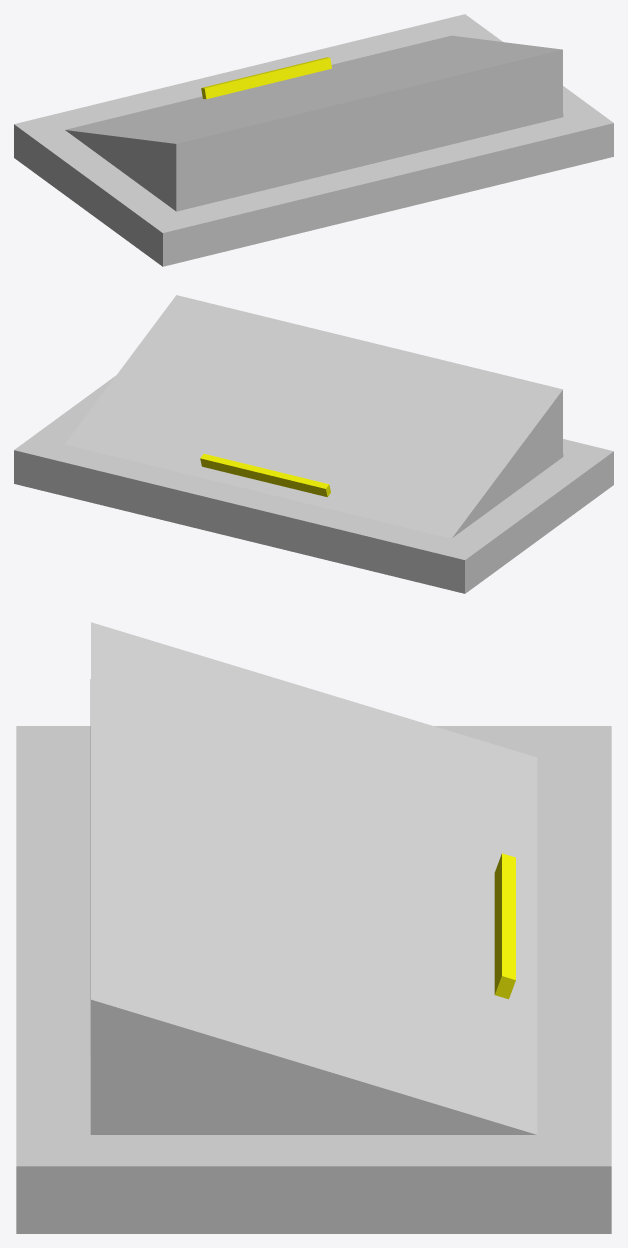
Rendered from Light_Switch_On.fbx.
The picture shows the model from 3 angles, top to bottom: view 1: azimuth 30°, elevation 25°; view 2: azimuth 150°, elevation 25°; view 3: azimuth 270°, elevation 25°; orthographic projection. The views are drawn at different scales.
Visible parts, largest first — view 1: Group3, Group2; view 2: Group3, Group2; view 3: Group3, Group2.
Part boxes in pixels (box(x1,y1,x2,y2)): Group3: box(65, 35, 563, 211); Group2: box(14, 14, 613, 266); Group3: box(65, 295, 563, 538); Group2: box(14, 375, 613, 593); Group3: box(90, 622, 537, 1134); Group2: box(16, 726, 611, 1233).
Bounding box in the file's own units: 140 × 30.07 × 80.
